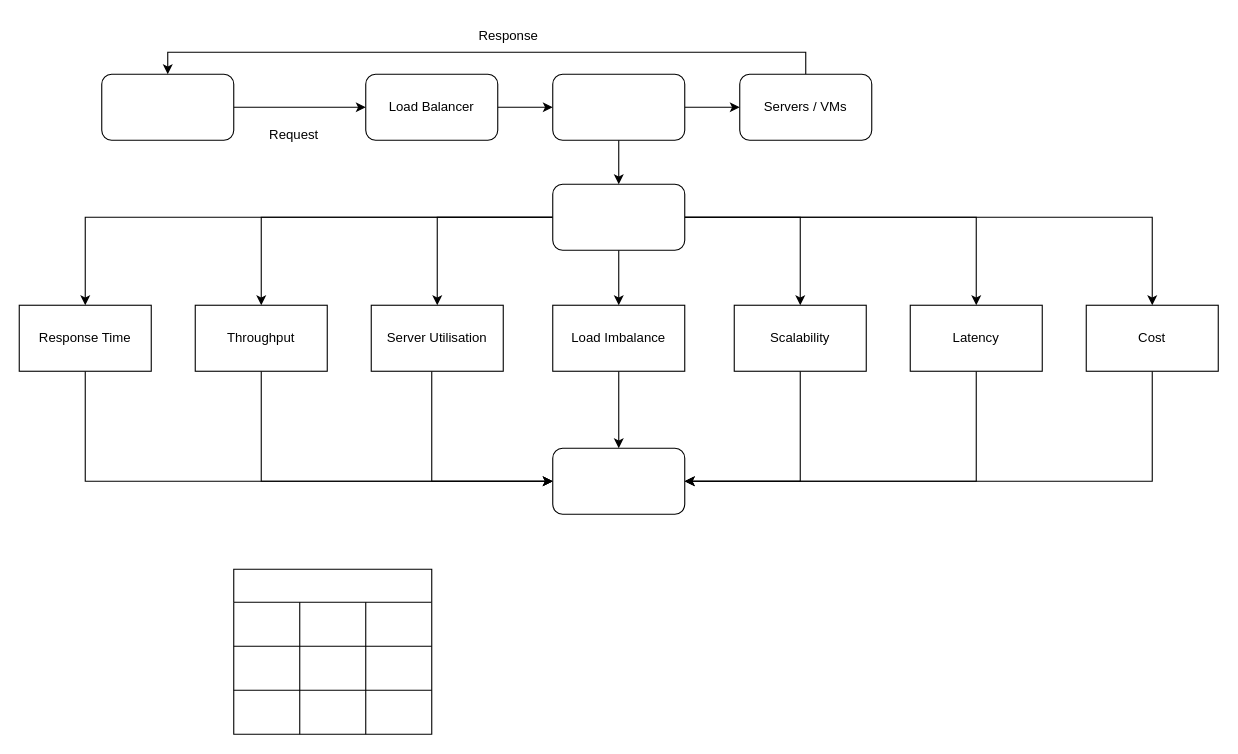
This 1238x754 diagram has some shape labels left out. The centre of each missing label's shape, as x and y in pixels:
"Algorithms" belongs at point 618,106.
"Analysis" belongs at point 618,216.
"Conclusion" belongs at point 618,480.
"Table" belongs at point 332,651.
"Users" belongs at point 167,106.
